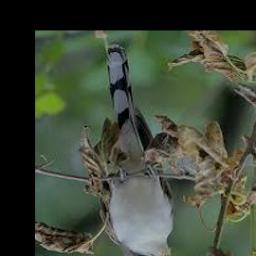Cuckoo: (101, 43, 188, 256)
